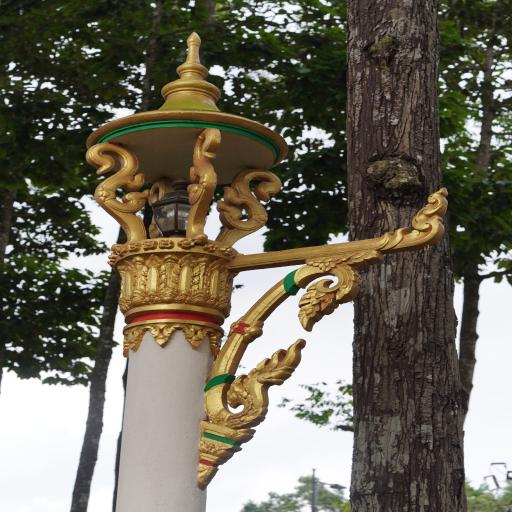ran: (195, 330, 308, 486), (272, 258, 398, 337)
